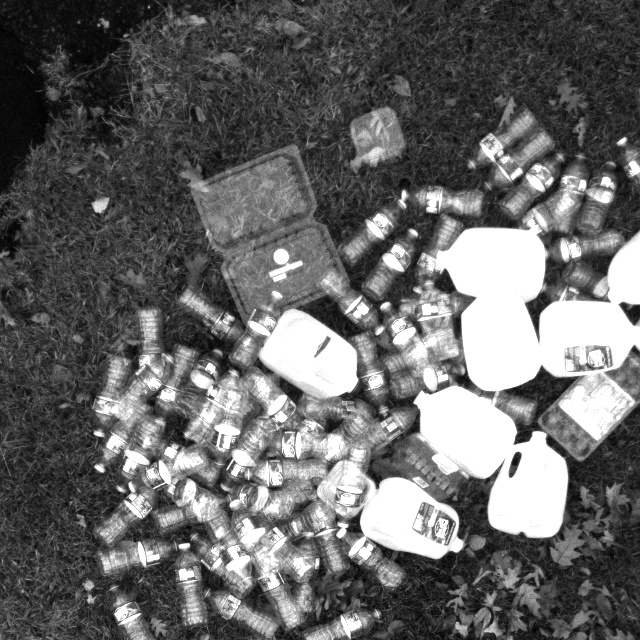bottle: (183, 528, 259, 598), (218, 413, 278, 498), (464, 106, 540, 172), (333, 524, 411, 588), (412, 211, 470, 296), (498, 150, 567, 220), (110, 350, 175, 423), (182, 365, 242, 444), (246, 364, 308, 439), (231, 287, 287, 369), (483, 130, 555, 193), (92, 483, 165, 545), (218, 415, 273, 497), (171, 346, 230, 422), (95, 393, 150, 474), (127, 439, 208, 494), (362, 227, 421, 301), (116, 415, 171, 494), (320, 268, 388, 331), (202, 585, 281, 639), (230, 505, 281, 588), (379, 300, 435, 375), (342, 405, 421, 457), (168, 535, 212, 627), (224, 499, 275, 578), (153, 343, 205, 420), (174, 286, 252, 337), (338, 205, 404, 265), (349, 328, 394, 414), (93, 536, 185, 578), (546, 152, 591, 235), (419, 279, 464, 361), (88, 353, 133, 435), (260, 517, 314, 585), (106, 580, 162, 640), (390, 358, 471, 398), (153, 493, 228, 536), (309, 494, 348, 576), (579, 158, 620, 235), (403, 183, 487, 219), (135, 304, 170, 390), (192, 493, 243, 552), (298, 392, 379, 428), (542, 225, 625, 260), (564, 260, 628, 304), (524, 188, 583, 235), (289, 529, 319, 616), (274, 501, 337, 542), (241, 460, 330, 488), (261, 431, 331, 460), (541, 283, 592, 305)
can: (413, 387, 518, 482), (255, 309, 362, 401), (355, 477, 465, 563), (486, 431, 572, 537), (436, 227, 549, 305), (539, 302, 640, 376), (461, 298, 540, 392)
container: (188, 144, 349, 324), (536, 335, 640, 465), (378, 435, 464, 505), (315, 459, 377, 517), (349, 108, 409, 167)
